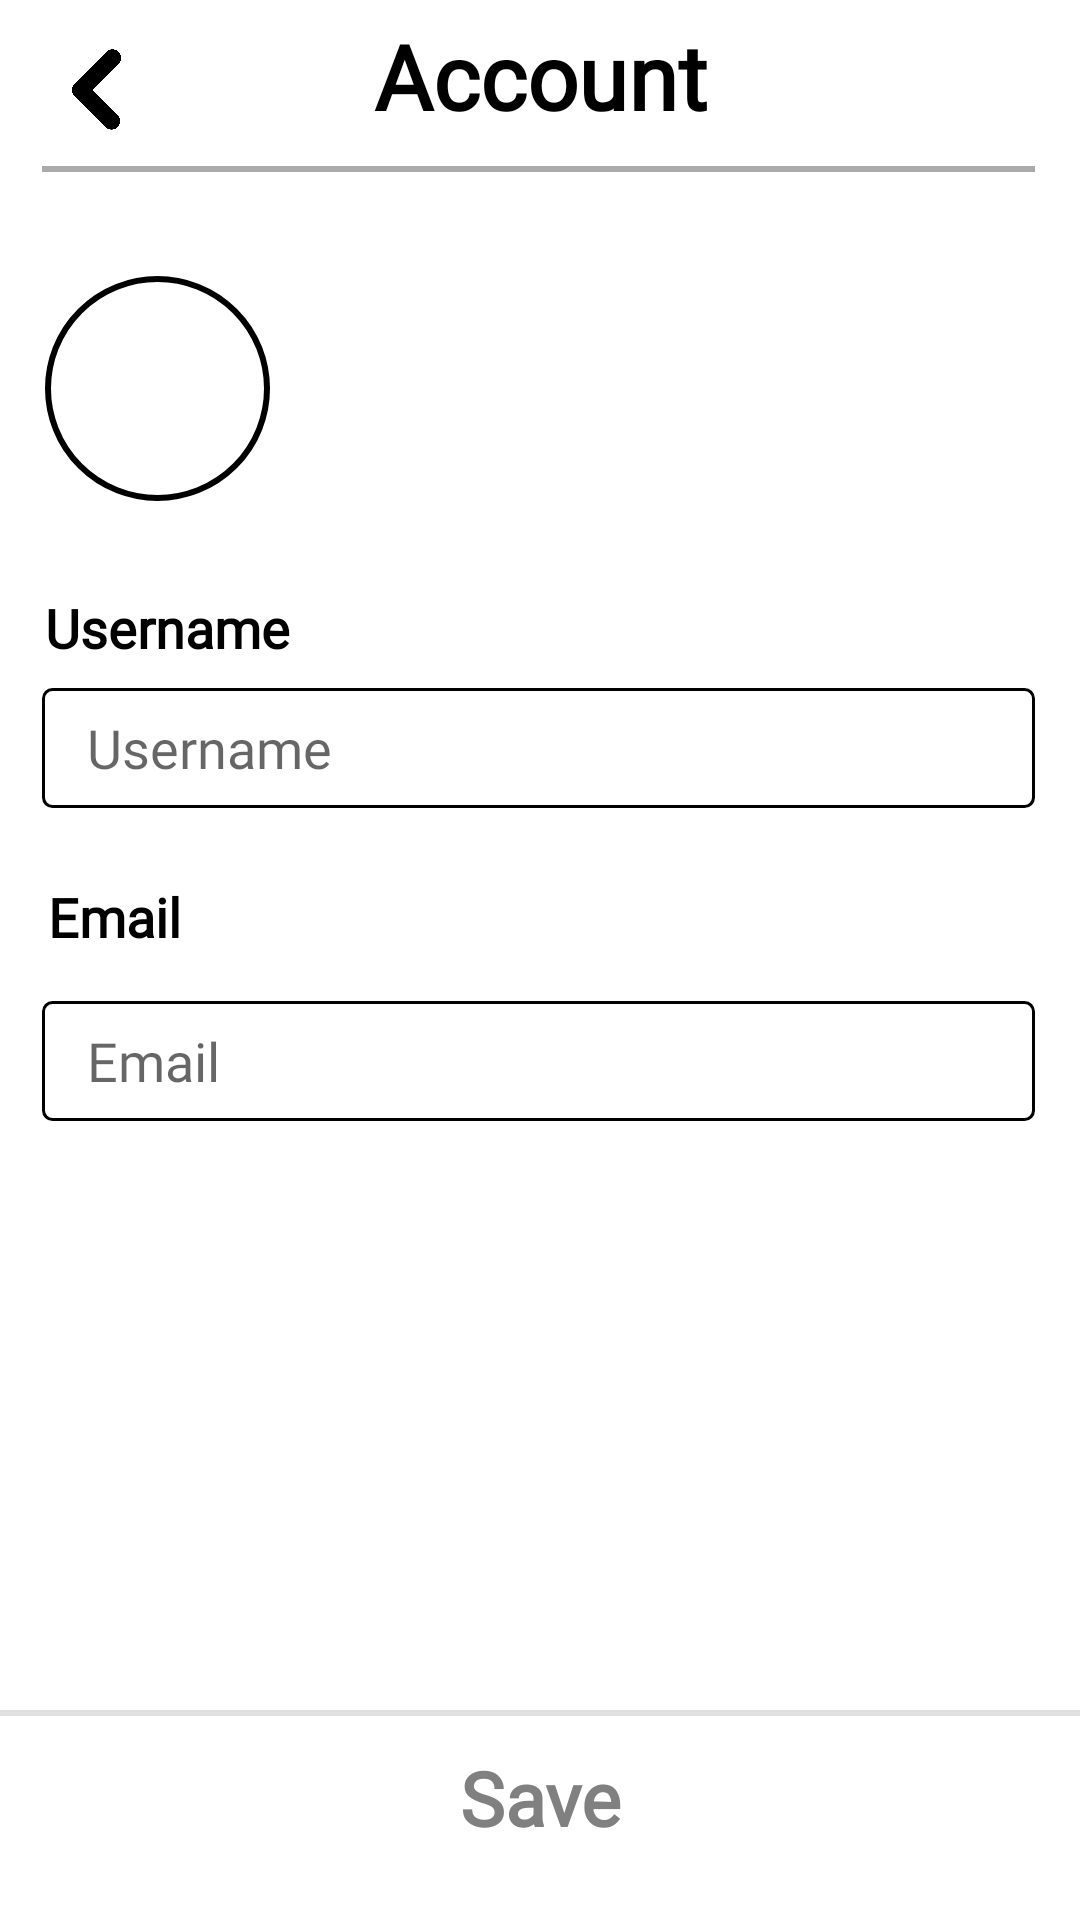

Where to tap for icons on this 1080×1920 app screen, as point (x, y):
backblk: point (96, 89)
